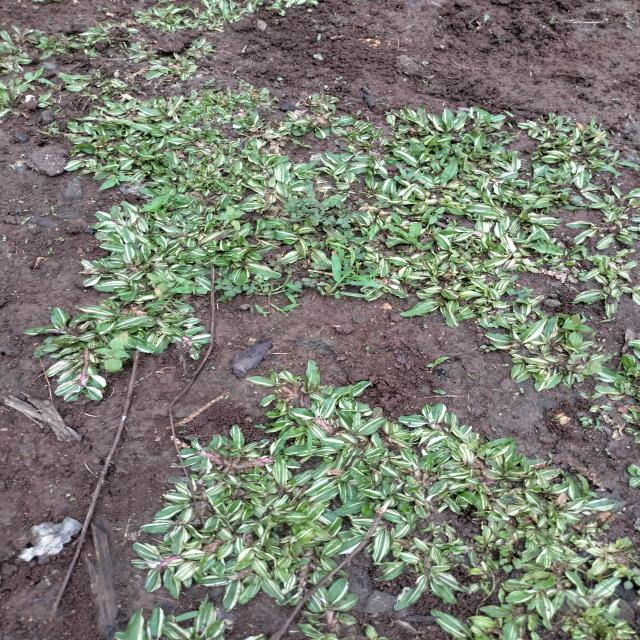bayi: (254, 423, 268, 430), (44, 576, 52, 586), (605, 447, 612, 456), (68, 496, 78, 502), (519, 388, 526, 394), (491, 426, 497, 432), (336, 76, 343, 81), (502, 363, 510, 367), (224, 395, 230, 400), (423, 323, 428, 329), (210, 366, 216, 370), (268, 368, 274, 372), (50, 488, 54, 494)
clover: (220, 283, 242, 297), (310, 259, 331, 271), (300, 275, 319, 288), (307, 201, 326, 213), (349, 210, 369, 221), (241, 283, 259, 295), (302, 276, 319, 288), (349, 248, 366, 260), (289, 212, 307, 223), (214, 278, 230, 290), (336, 217, 352, 229), (320, 215, 337, 226), (295, 206, 311, 217), (310, 212, 324, 224), (328, 198, 344, 208), (335, 237, 352, 246), (300, 197, 317, 206), (301, 187, 316, 197), (305, 238, 320, 248), (341, 266, 354, 276), (341, 230, 355, 238), (355, 198, 366, 208)
rambat atas: (322, 253, 386, 300), (267, 274, 305, 305), (254, 296, 300, 318), (292, 428, 318, 463), (176, 596, 211, 621), (171, 274, 210, 296), (98, 172, 143, 191), (21, 66, 58, 88), (607, 149, 640, 169), (152, 295, 185, 313), (250, 279, 273, 292)
rambat bawah: (386, 221, 426, 252), (425, 355, 452, 370), (291, 137, 314, 150)
tunggang besar: (93, 330, 133, 375), (145, 271, 170, 292)
ungu tunggang: (496, 547, 529, 573)
